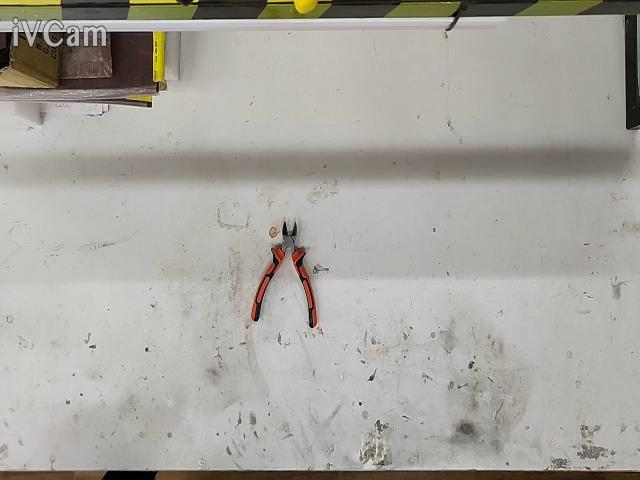Cutting pliers: (251, 220, 318, 328)
